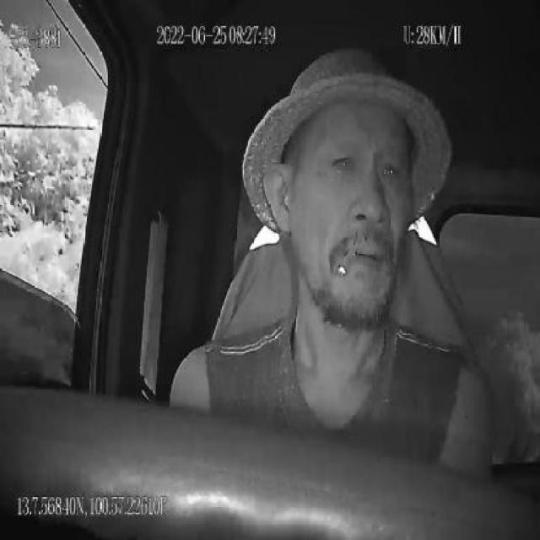smoking: (336, 242, 360, 279)
